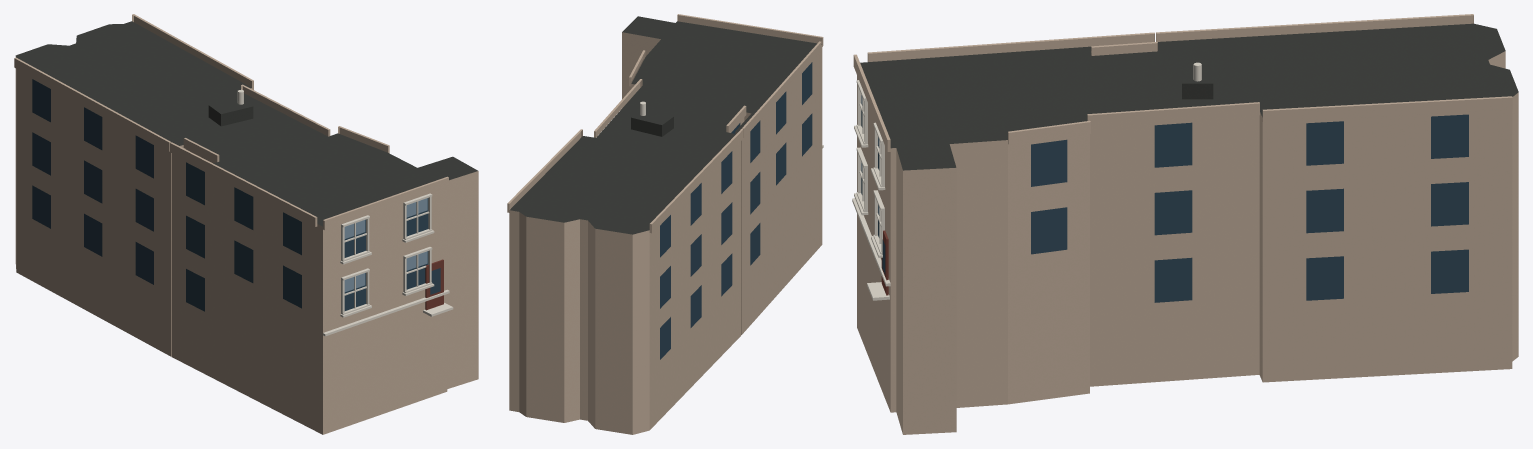
3 renders of one model, left to right at view 1: azimuth 30°, elevation 25°; view 2: azimuth 150°, elevation 25°; view 3: azimuth 270°, elevation 25°, orthographic. The views are drawn at different scales.
Parts seen in each view (by area): view 1: Footprint 0 / surface 2, Footprint 0 / surface 1, Inset glazing, Facade bay volumes, Cornices and window frames, Sky reflection panels, Storefronts and doors; view 2: Footprint 0 / surface 2, Footprint 0 / surface 1, Inset glazing, Facade bay volumes, Inferred rooftop service enclosure / surface 6, Inferred rooftop service enclosure / surface 3; view 3: Footprint 0 / surface 2, Footprint 0 / surface 1, Inset glazing, Facade bay volumes, Cornices and window frames.
Boxes of the visible parts, x1,y1,x2,y2 form: Footprint 0 / surface 2: (15,56,478,434); Footprint 0 / surface 1: (15,21,477,226); Inset glazing: (32,79,440,311); Facade bay volumes: (14,14,448,229); Cornices and window frames: (323,193,453,336); Sky reflection panels: (344,198,427,291); Storefronts and doors: (425,259,443,310); Footprint 0 / surface 2: (509,32,822,434); Footprint 0 / surface 1: (510,16,821,234); Inset glazing: (660,62,812,359); Facade bay volumes: (507,14,823,233); Inferred rooftop service enclosure / surface 6: (631,117,661,136); Inferred rooftop service enclosure / surface 3: (631,109,673,124); Footprint 0 / surface 2: (857,51,1518,434); Footprint 0 / surface 1: (860,23,1518,170); Inset glazing: (861,103,1468,302); Facade bay volumes: (853,14,1512,151); Cornices and window frames: (852,80,890,300).
Bounding box in the file's own units: 13.32 × 12.38 × 25.32.
